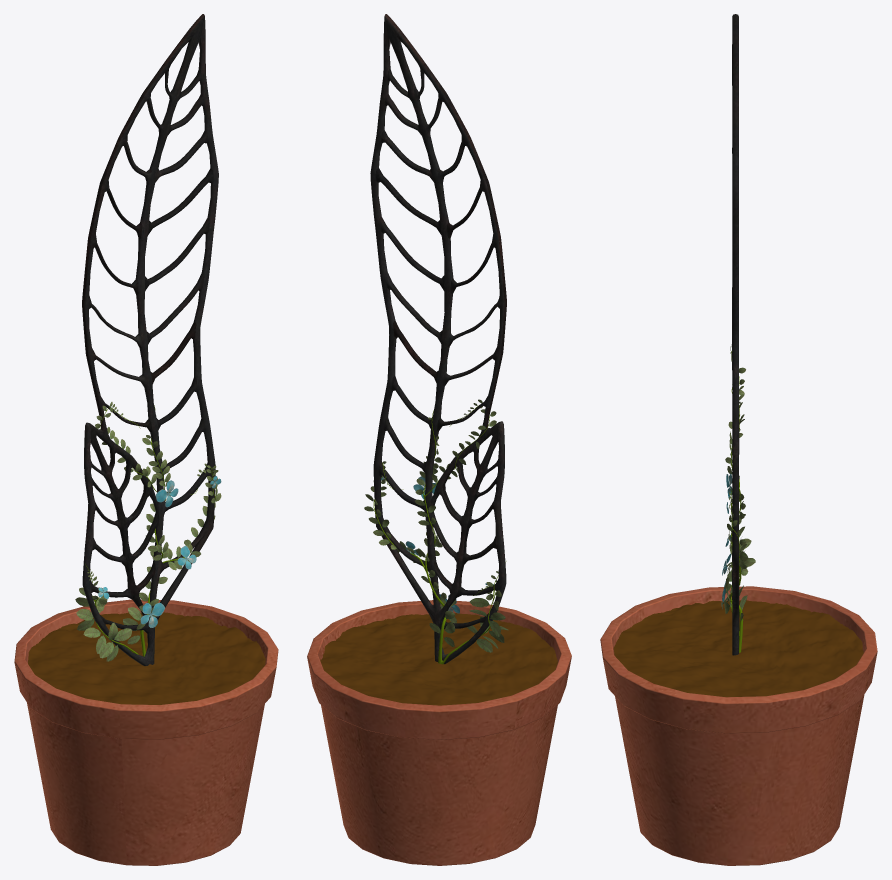
Rendered from vine_with_flowers_and_trellis.fbx.
3 views of the same model, side by side, from view 1: azimuth 30°, elevation 25°; view 2: azimuth 150°, elevation 25°; view 3: azimuth 270°, elevation 25° (orthographic). The views are drawn at different scales.
Parts seen in each view (by area): view 1: planter1, trellis, pDisc1, vine; view 2: planter1, trellis, pDisc1, vine; view 3: planter1, pDisc1, trellis.
Boxes of the visible parts, x1=… form: planter1: x1=14, y1=599, x2=278, y2=865; trellis: x1=82, y1=14, x2=218, y2=665; pDisc1: x1=28, y1=612, x2=265, y2=704; vine: x1=85, y1=405, x2=215, y2=656; planter1: x1=307, y1=600, x2=571, y2=865; trellis: x1=370, y1=14, x2=506, y2=664; pDisc1: x1=320, y1=613, x2=557, y2=705; vine: x1=373, y1=405, x2=506, y2=664; planter1: x1=600, y1=586, x2=877, y2=865; pDisc1: x1=613, y1=600, x2=863, y2=697; trellis: x1=732, y1=14, x2=739, y2=655.
Size of the model in its own units: 40.61 by 136 by 40.61.
